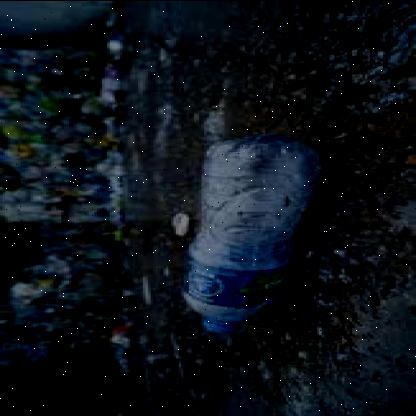Plastic Bottle: (184, 135, 323, 332)
